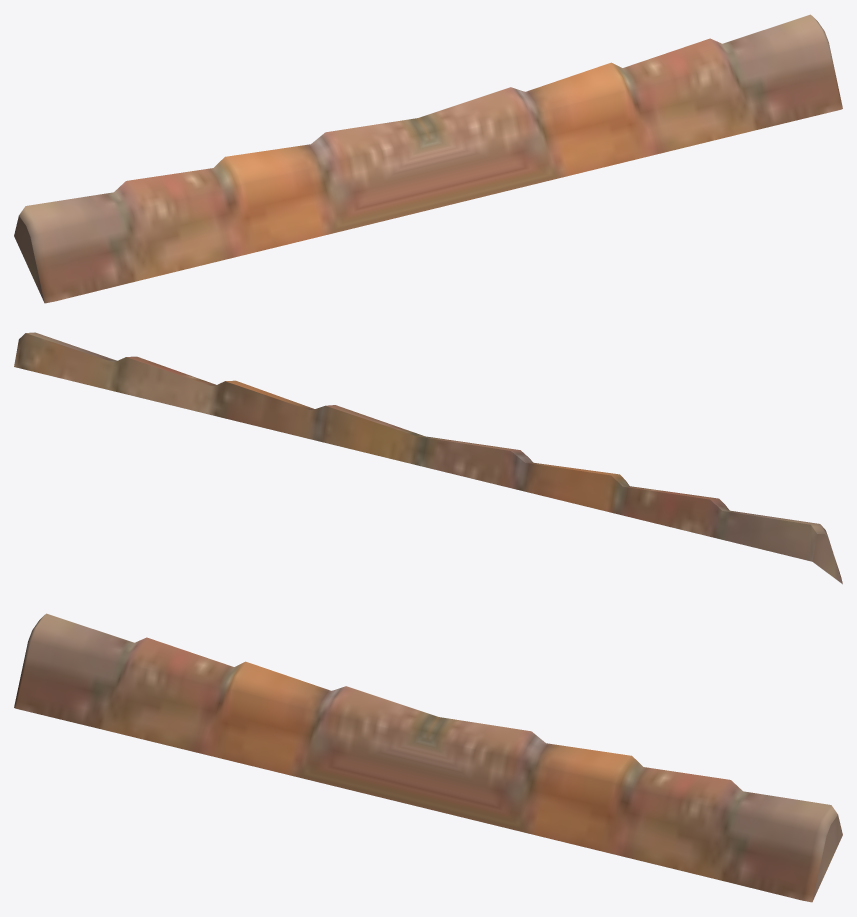
The model's file is roof.adobe.corner.90.concave.r.top.line.glb.
The picture shows the model from 3 angles, top to bottom: view 1: azimuth 30°, elevation 25°; view 2: azimuth 150°, elevation 25°; view 3: azimuth 330°, elevation 25°; orthographic projection.
Visible parts, largest first — view 1: model; view 2: model; view 3: model.
Boxes of the visible parts, x1=… form: model: x1=14, y1=14, x2=842, y2=303; model: x1=14, y1=332, x2=842, y2=584; model: x1=14, y1=613, x2=842, y2=902.
Bounding box in the file's own units: 3 × 0.2787 × 0.2254.
1 material, 1 textured.
